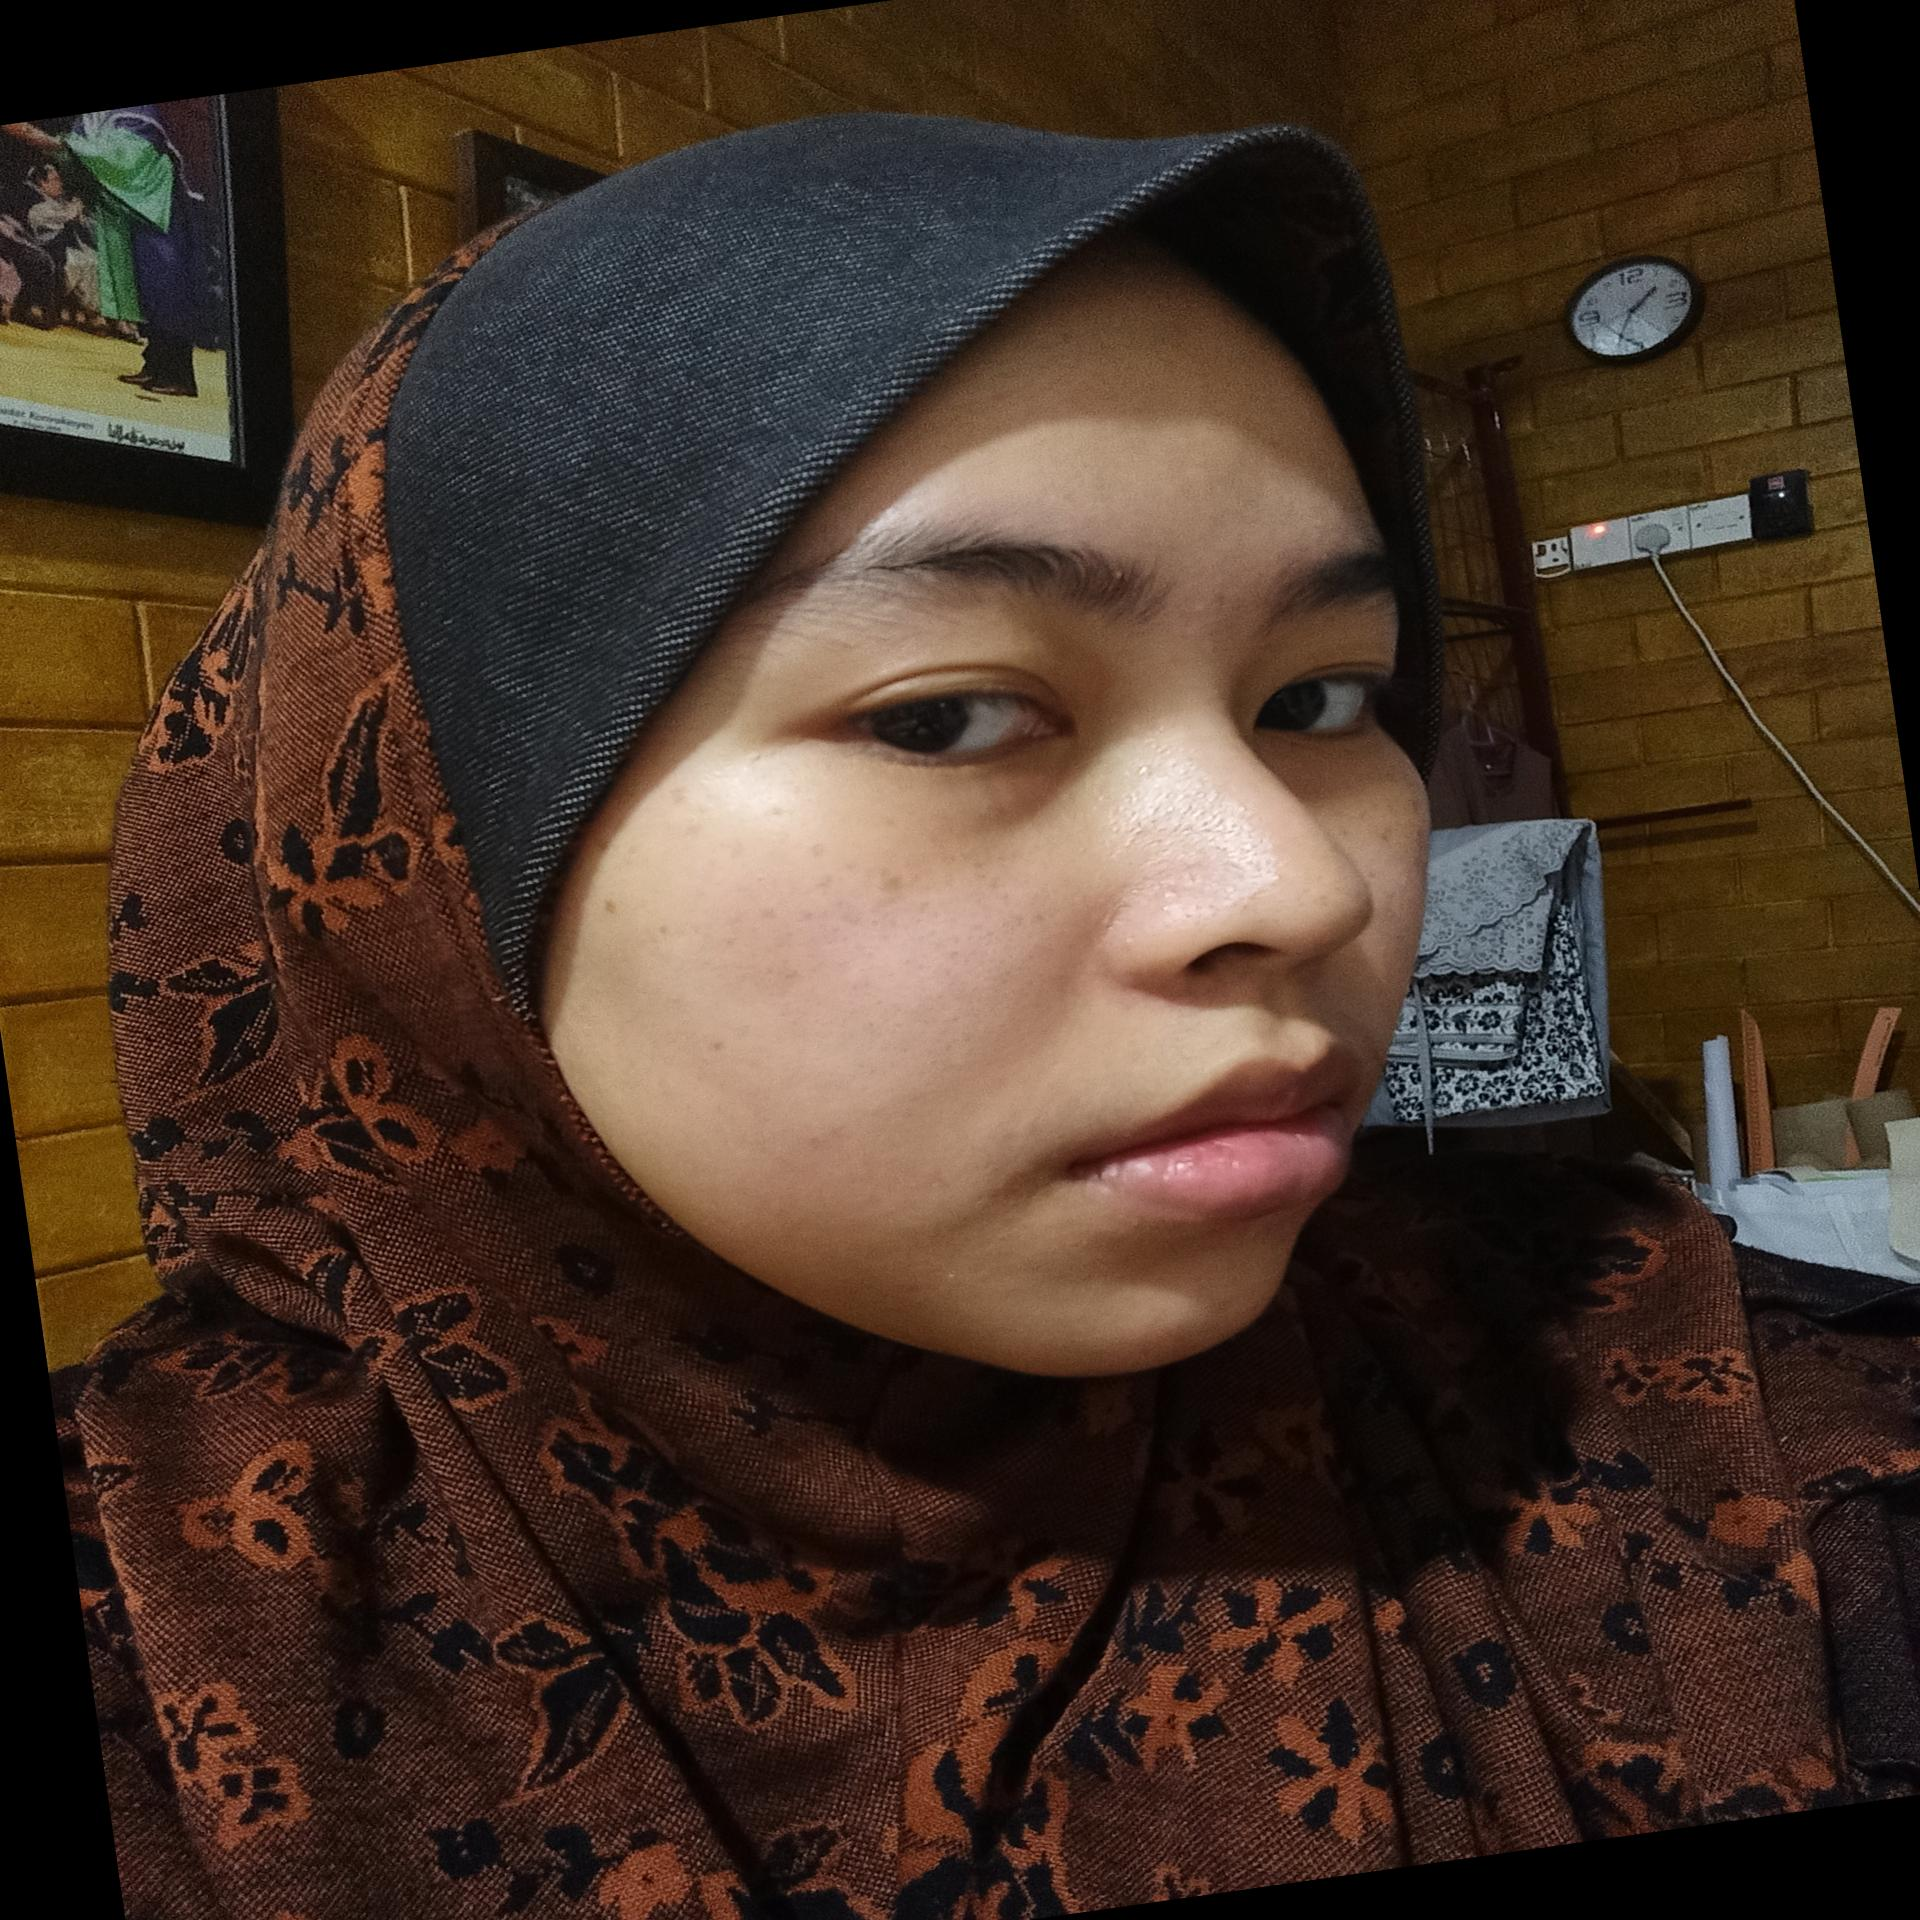Englarged Pores: (805, 886, 1092, 1074), (1118, 816, 1289, 928), (1094, 751, 1234, 860)
